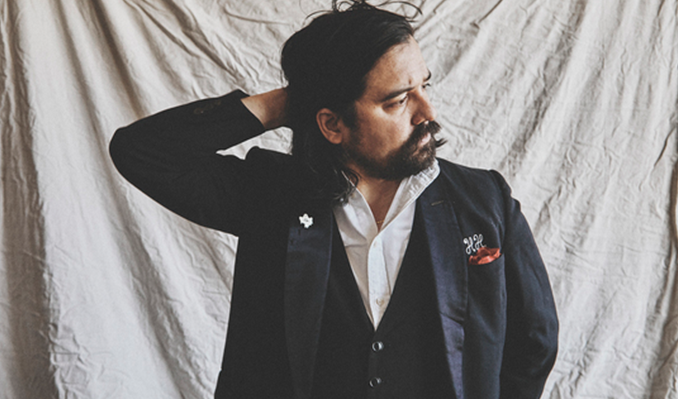Without Helmet: (276, 1, 446, 188)
